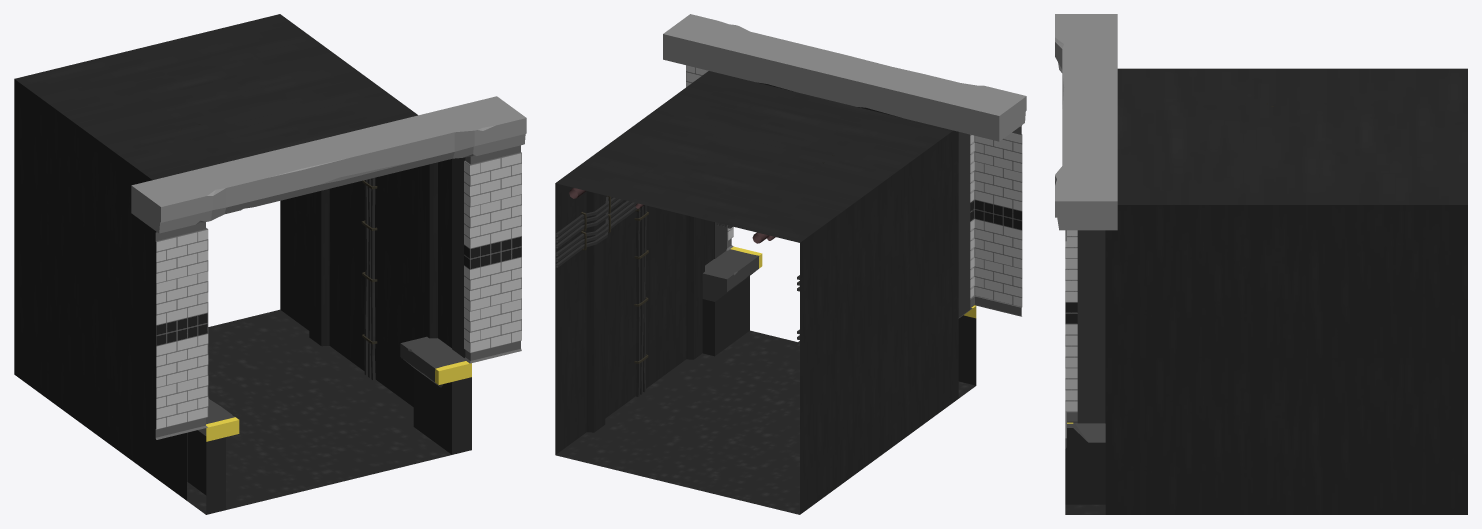
The model's file is SW_ENV_RailTunnel_Entrance_01_FF.fbx.
3 views of the same model, side by side, from view 1: azimuth 30°, elevation 25°; view 2: azimuth 150°, elevation 25°; view 3: azimuth 270°, elevation 25° (orthographic). The views are drawn at different scales.
Parts seen in each view (by area): view 1: SW_ENV_RailTunnel_Entrance_01_FF; view 2: SW_ENV_RailTunnel_Entrance_01_FF; view 3: SW_ENV_RailTunnel_Entrance_01_FF.
Boxes of the visible parts, left/top/right/bottom form: SW_ENV_RailTunnel_Entrance_01_FF: left=14, top=14, right=526, bottom=514; SW_ENV_RailTunnel_Entrance_01_FF: left=555, top=14, right=1026, bottom=514; SW_ENV_RailTunnel_Entrance_01_FF: left=1055, top=14, right=1467, bottom=514.
Bounding box in the file's own units: 5.5 × 4.65 × 5.13.
